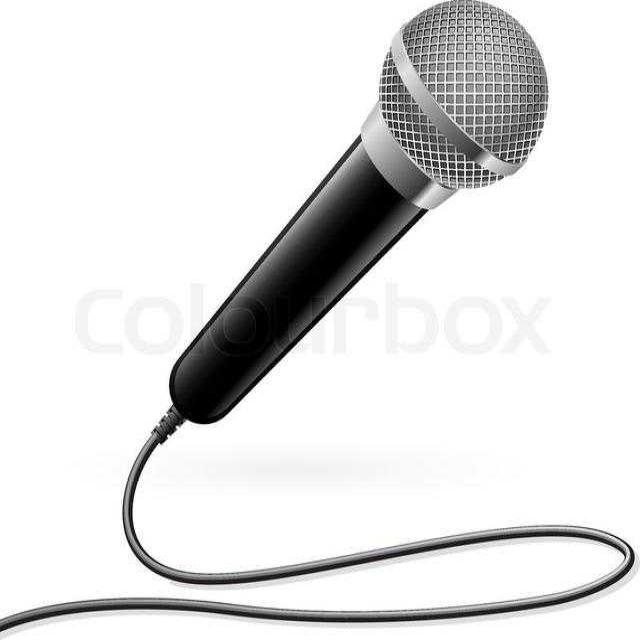microphone: (177, 4, 548, 424), (360, 2, 546, 209)
